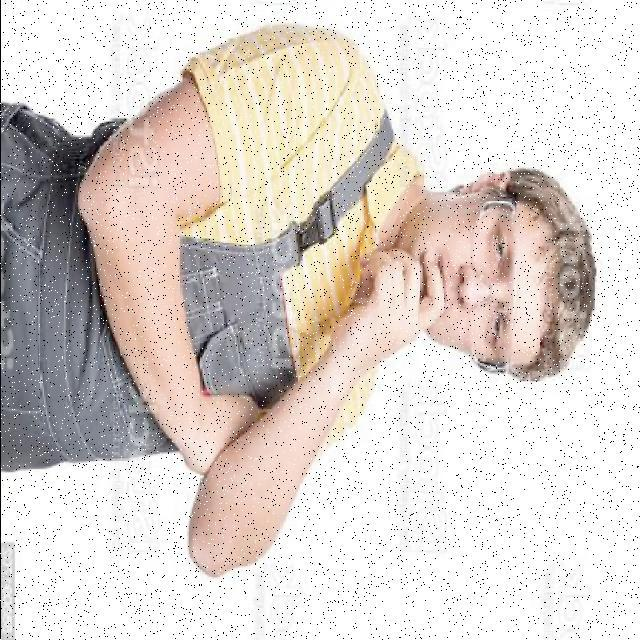Goggles: (457, 172, 531, 400)
